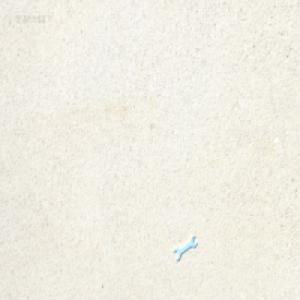Wrench: (174, 233, 198, 260)
